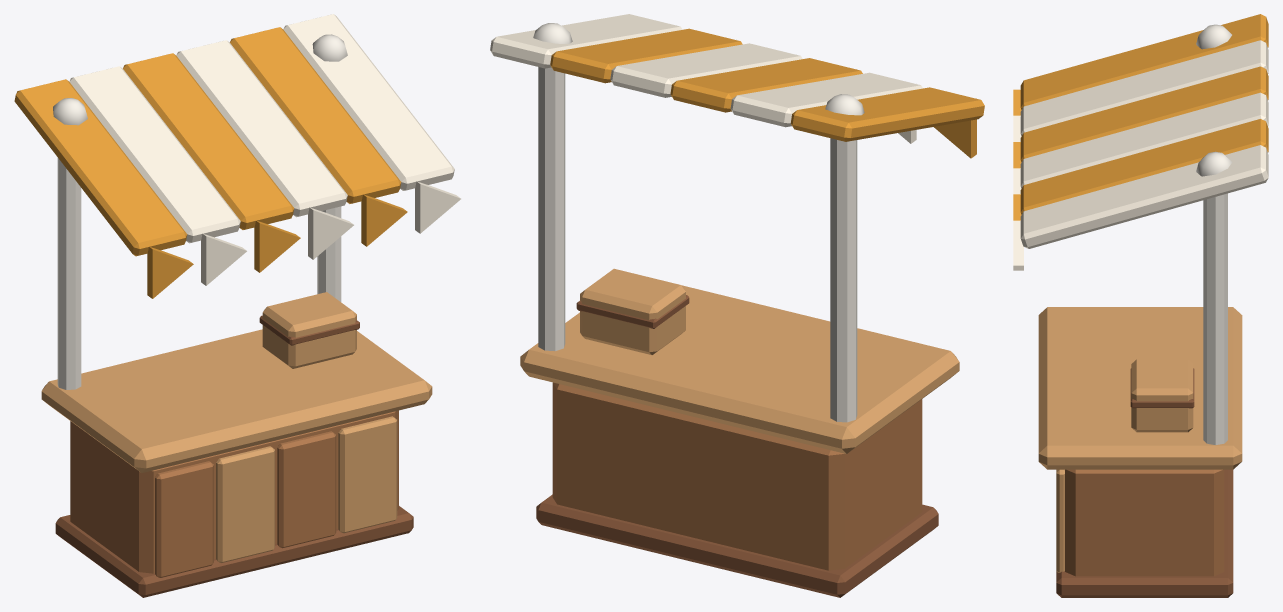
The model's file is barraca-dourada.glb.
3 views of the same model, side by side, from view 1: azimuth 30°, elevation 25°; view 2: azimuth 150°, elevation 25°; view 3: azimuth 270°, elevation 25° (orthographic). The views are drawn at different scales.
Visible parts, largest first — view 1: barraca, toldo; view 2: barraca, toldo; view 3: barraca, toldo.
Boxes of the visible parts, x1,y1,x2,y2 form: barraca: (41,34,432,597); toldo: (14,14,460,298); barraca: (520,23,959,597); toldo: (490,14,984,158); barraca: (1038,24,1242,597); toldo: (1013,14,1268,270).
Size of the model in its own units: 0.421 by 0.552 by 0.2885.
